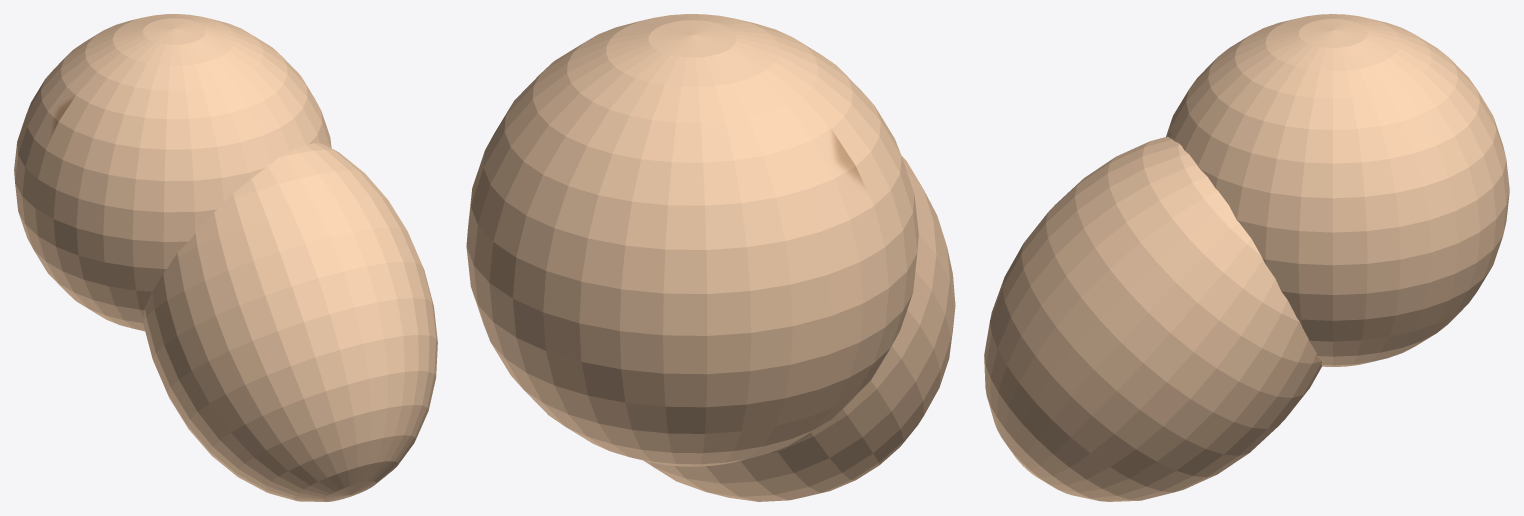
The model's file is BicepIzq_Arbitro.obj.
3 renders of one model, left to right at view 1: azimuth 30°, elevation 25°; view 2: azimuth 150°, elevation 25°; view 3: azimuth 270°, elevation 25°, orthographic. The views are drawn at different scales.
Parts seen in each view (by area): view 1: BicepIzq_Arbitro; view 2: BicepIzq_Arbitro; view 3: BicepIzq_Arbitro.
Part boxes in pixels (<box>): BicepIzq_Arbitro: <box>14,14,437,501</box>; BicepIzq_Arbitro: <box>466,14,955,501</box>; BicepIzq_Arbitro: <box>984,14,1509,501</box>.
Bounding box in the file's own units: 1.25 × 1.57 × 1.71.
1 material, 1 textured.
